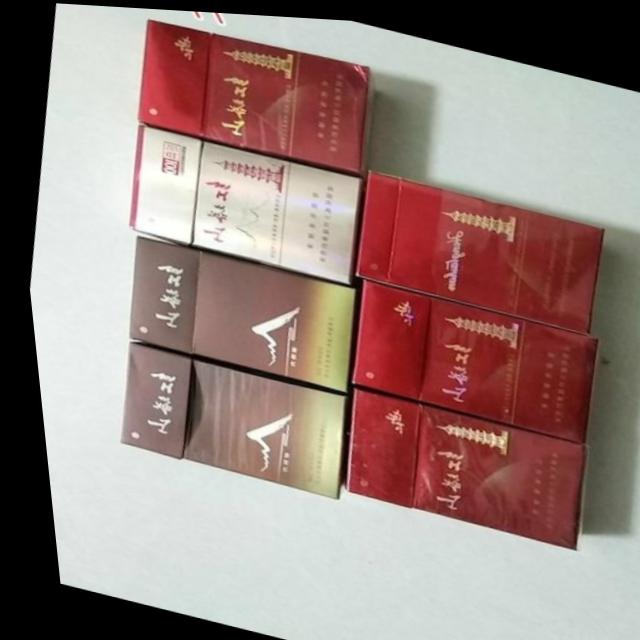box: (351, 166, 600, 327), (344, 276, 590, 437), (333, 383, 577, 543), (126, 122, 362, 284), (136, 18, 378, 174), (120, 235, 349, 390), (111, 340, 336, 495)
